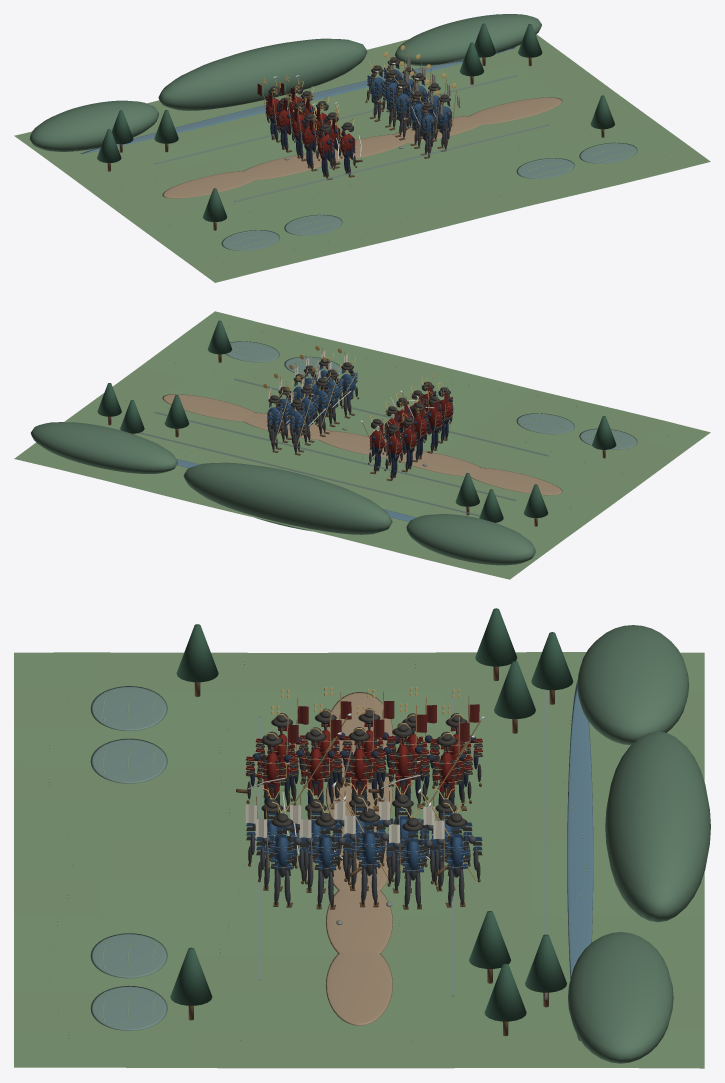
File: samurai_battlefield_pack.glb
The picture shows the model from 3 angles, top to bottom: view 1: azimuth 30°, elevation 25°; view 2: azimuth 150°, elevation 25°; view 3: azimuth 270°, elevation 25°; orthographic projection. The views are drawn at different scales.
Parts seen in each view (by area): view 1: rolling shinano countryside battlefield ground, distant center mountain ridge, distant right cedar hill, distant left cedar hill, narrow blue river channel, worn muddy road oval.004, worn muddy road oval, worn muddy road oval.001, flooded rice paddy 2, flooded rice paddy 4, flooded rice paddy 3, flooded rice paddy 1 (+13 smaller); view 2: rolling shinano countryside battlefield ground, distant center mountain ridge, distant right cedar hill, distant left cedar hill, worn muddy road oval, worn muddy road oval.004, worn muddy road oval.001, flooded rice paddy 2, flooded rice paddy 4, worn muddy road oval.002, low dawn mist band.002, low dawn mist band.001 (+12 smaller); view 3: rolling shinano countryside battlefield ground, distant center mountain ridge, distant right cedar hill, distant left cedar hill, narrow blue river channel, worn muddy road oval.004, worn muddy road oval.003, flooded rice paddy 2, flooded rice paddy 3, flooded rice paddy 4, flooded rice paddy 1, cedar dark crown 7 (+11 smaller).
Part boxes in pixels (bbox=[...]): rolling shinano countryside battlefield ground: bbox=[14, 34, 710, 282]; distant center mountain ridge: bbox=[158, 38, 367, 110]; distant right cedar hill: bbox=[395, 14, 541, 65]; distant left cedar hill: bbox=[29, 100, 158, 151]; narrow blue river channel: bbox=[80, 47, 515, 153]; worn muddy road oval.004: bbox=[469, 97, 562, 124]; worn muddy road oval: bbox=[162, 171, 255, 198]; worn muddy road oval.001: bbox=[244, 153, 329, 179]; flooded rice paddy 2: bbox=[284, 214, 342, 235]; flooded rice paddy 4: bbox=[579, 142, 637, 163]; flooded rice paddy 3: bbox=[516, 158, 574, 178]; flooded rice paddy 1: bbox=[221, 230, 279, 250]; rolling shinano countryside battlefield ground: bbox=[14, 311, 710, 579]; distant center mountain ridge: bbox=[183, 462, 392, 534]; distant right cedar hill: bbox=[30, 422, 177, 473]; distant left cedar hill: bbox=[406, 514, 535, 565]; worn muddy road oval: bbox=[470, 467, 562, 495]; worn muddy road oval.004: bbox=[162, 394, 255, 421]; worn muddy road oval.001: bbox=[397, 450, 481, 476]; flooded rice paddy 2: bbox=[516, 413, 574, 434]; flooded rice paddy 4: bbox=[225, 341, 279, 362]; worn muddy road oval.002: bbox=[319, 431, 402, 457]; low dawn mist band.002: bbox=[119, 427, 479, 516]; low dawn mist band.001: bbox=[154, 411, 515, 500]; rolling shinano countryside battlefield ground: bbox=[14, 652, 704, 1068]; distant center mountain ridge: bbox=[605, 731, 710, 922]; distant right cedar hill: bbox=[568, 932, 673, 1063]; distant left cedar hill: bbox=[577, 625, 689, 745]; narrow blue river channel: bbox=[567, 680, 593, 1041]; worn muddy road oval.004: bbox=[325, 952, 392, 1025]; worn muddy road oval.003: bbox=[325, 889, 392, 953]; flooded rice paddy 2: bbox=[90, 738, 167, 783]; flooded rice paddy 3: bbox=[90, 933, 167, 978]; flooded rice paddy 4: bbox=[90, 985, 167, 1030]; flooded rice paddy 1: bbox=[90, 686, 167, 731]; cedar dark crown 7: bbox=[176, 624, 218, 682].
Bounding box in the file's own units: 16.1 × 2.32 × 11.2.
